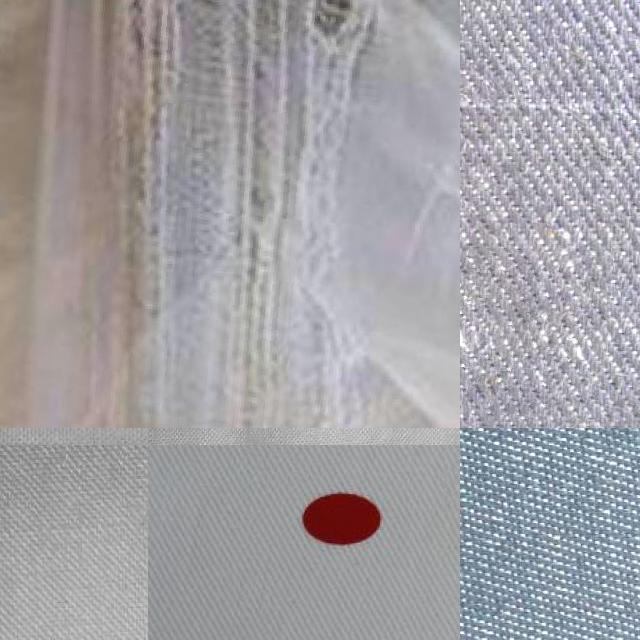Hole: (440, 469, 460, 539)
Thread_other: (460, 235, 609, 414)
